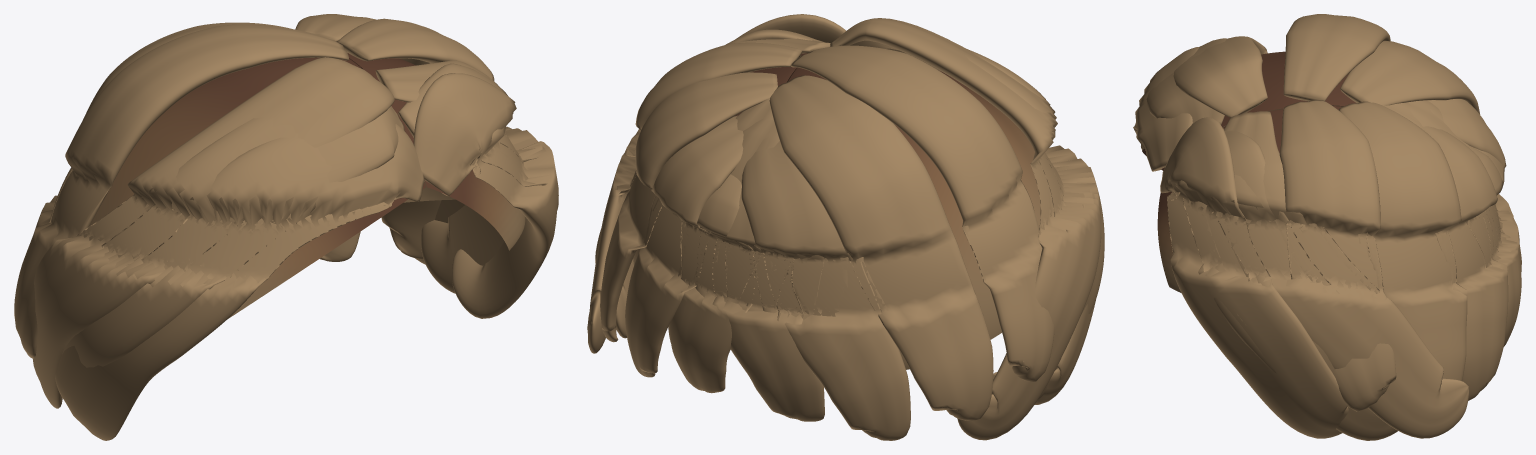
File: Masculine-flow-headband260-hair-ombre.glb
3 views of the same model, side by side, from view 1: azimuth 30°, elevation 25°; view 2: azimuth 150°, elevation 25°; view 3: azimuth 270°, elevation 25° (orthographic). The views are drawn at different scales.
Visible parts, largest first — view 1: 226 hair / Hair260 / layered flow; view 2: 226 hair / Hair260 / layered flow; view 3: 226 hair / Hair260 / layered flow.
Boxes of the visible parts, x1,y1,x2,y2 form: 226 hair / Hair260 / layered flow: (14, 14, 558, 440); 226 hair / Hair260 / layered flow: (587, 14, 1104, 440); 226 hair / Hair260 / layered flow: (1133, 14, 1521, 440).
Bounding box in the file's own units: 1.12 × 0.7722 × 0.8635.
